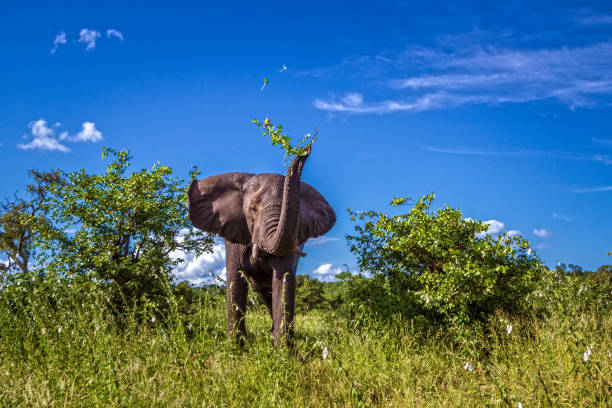africanelephant: (237, 166, 308, 271)
